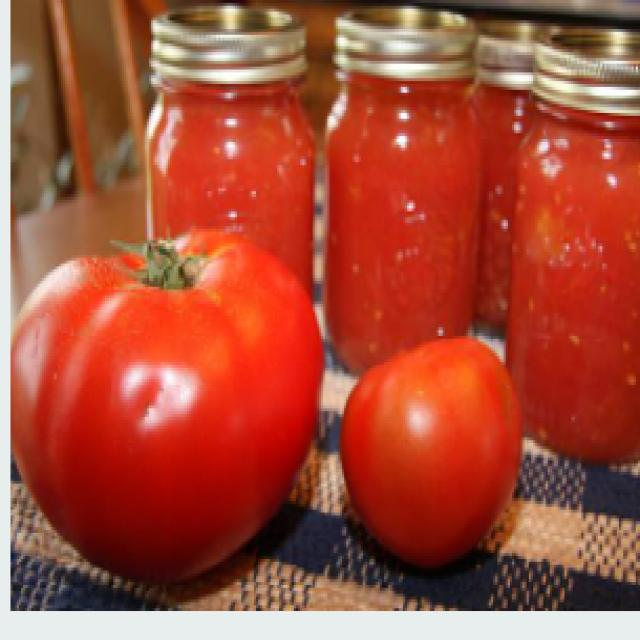Tomato: (13, 228, 325, 580), (342, 346, 522, 563)
